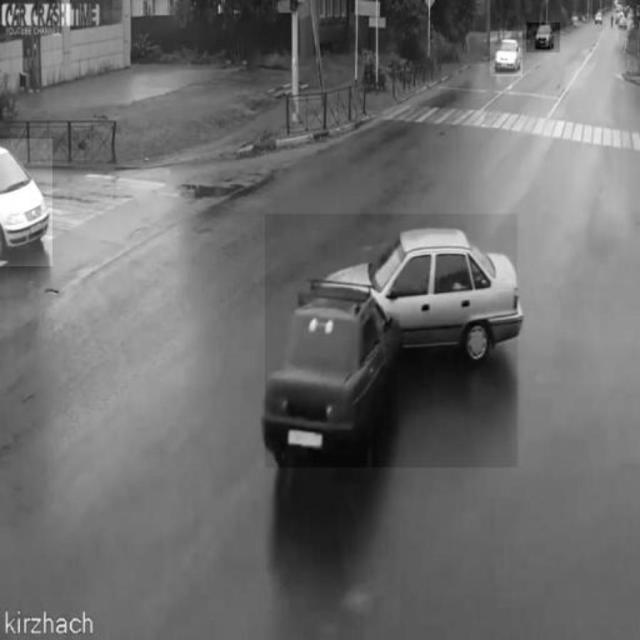accident: (265, 214, 517, 467)
vehicle: (1, 139, 53, 267), (490, 32, 524, 77), (527, 22, 561, 52)
